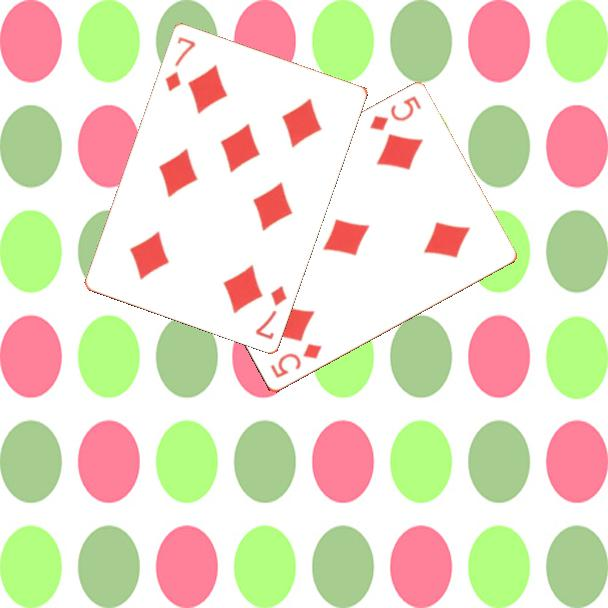d05: (366, 93, 424, 134), (267, 340, 324, 381)
d07: (161, 33, 198, 94), (252, 281, 289, 342)
